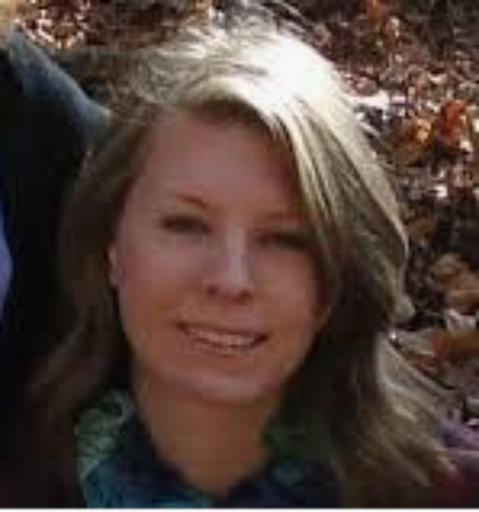left_eye: (260, 231, 312, 257)
left_lip_corner: (259, 327, 281, 348)
right_eye: (160, 214, 212, 240)
right_lip_corner: (172, 315, 205, 341)
